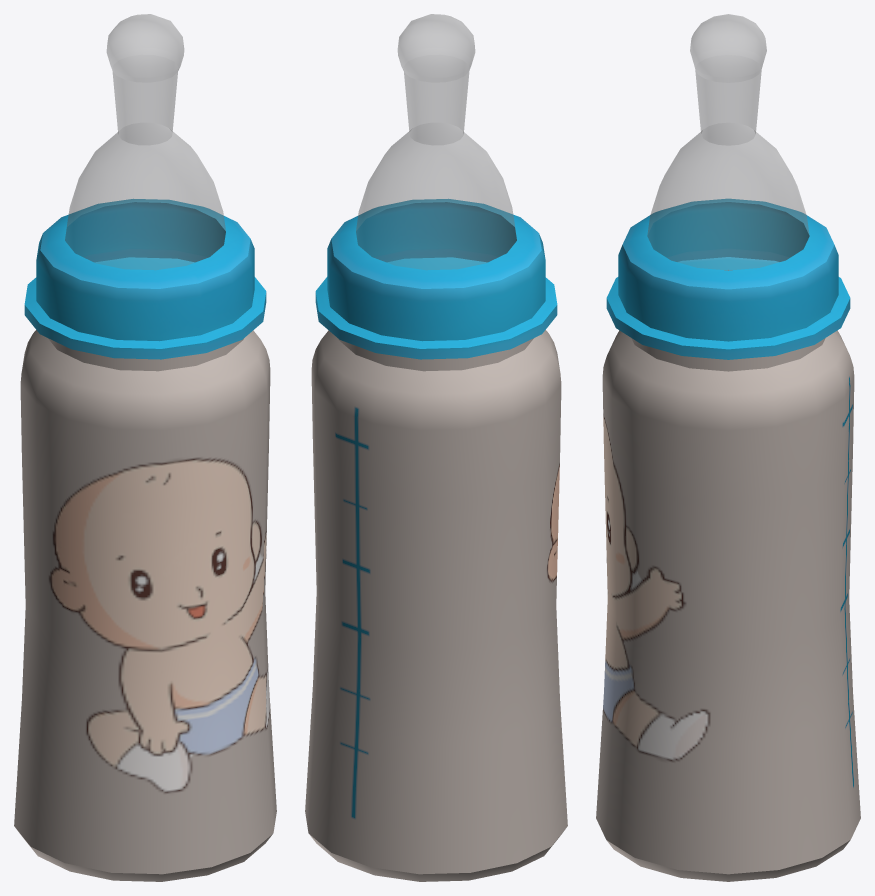
Rendered from Parent_Run_Milk_Bottle.fbx.
3 views of the same model, side by side, from view 1: azimuth 30°, elevation 25°; view 2: azimuth 150°, elevation 25°; view 3: azimuth 270°, elevation 25° (orthographic).
Parts seen in each view (by area): view 1: Milk_Bottle; view 2: Milk_Bottle; view 3: Milk_Bottle.
Part boxes in pixels (left/top/right/bottom): Milk_Bottle: left=14, top=14, right=276, bottom=881; Milk_Bottle: left=305, top=14, right=567, bottom=881; Milk_Bottle: left=596, top=14, right=860, bottom=881.
Bounding box in the file's own units: 25.22 × 85.61 × 25.22.
